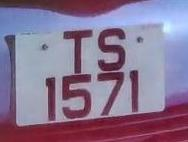1: (39, 72, 63, 127), (124, 69, 147, 117)
5: (56, 70, 98, 123)
7: (95, 70, 130, 121)
S: (94, 24, 130, 74)
T: (58, 25, 98, 76)
